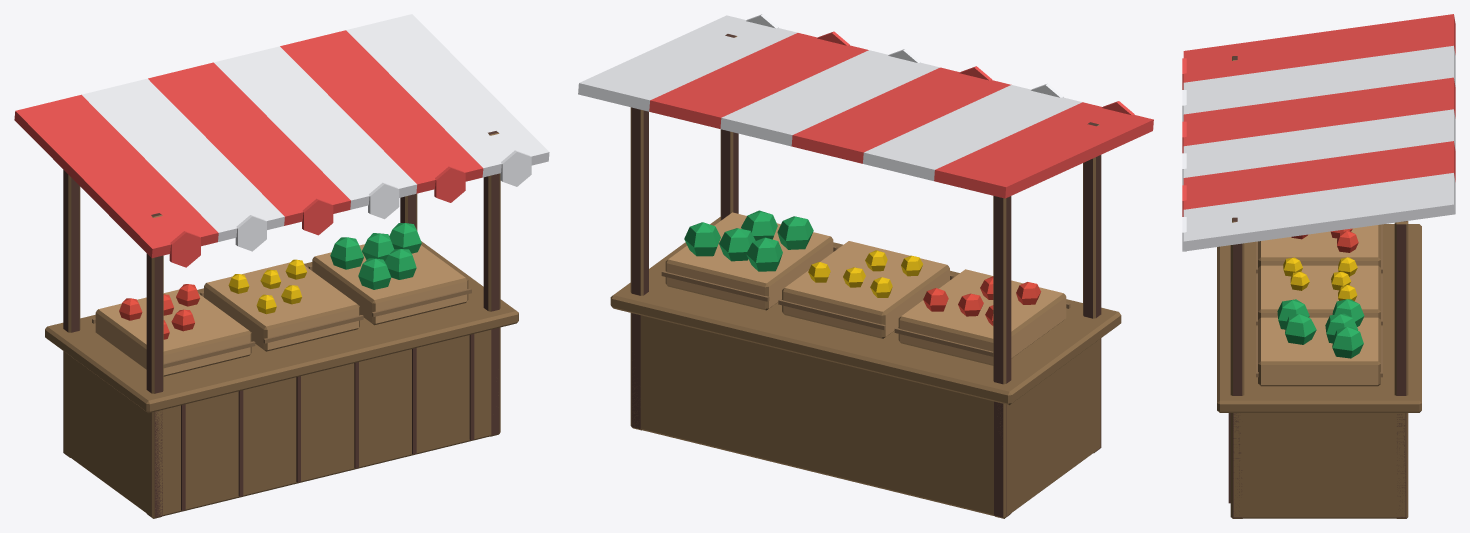
Rendered from marketStall.glb.
3 renders of one model, left to right at view 1: azimuth 30°, elevation 25°; view 2: azimuth 150°, elevation 25°; view 3: azimuth 270°, elevation 25°, orthographic. The views are drawn at different scales.
Visible parts, largest first — view 1: marketStall-m; view 2: marketStall-m; view 3: marketStall-m.
Boxes of the visible parts, <box> form: marketStall-m: <box>14,14,549,518</box>; marketStall-m: <box>578,14,1153,518</box>; marketStall-m: <box>1182,14,1455,518</box>.
Size of the model in its own units: 3.3 by 2.64 by 2.
